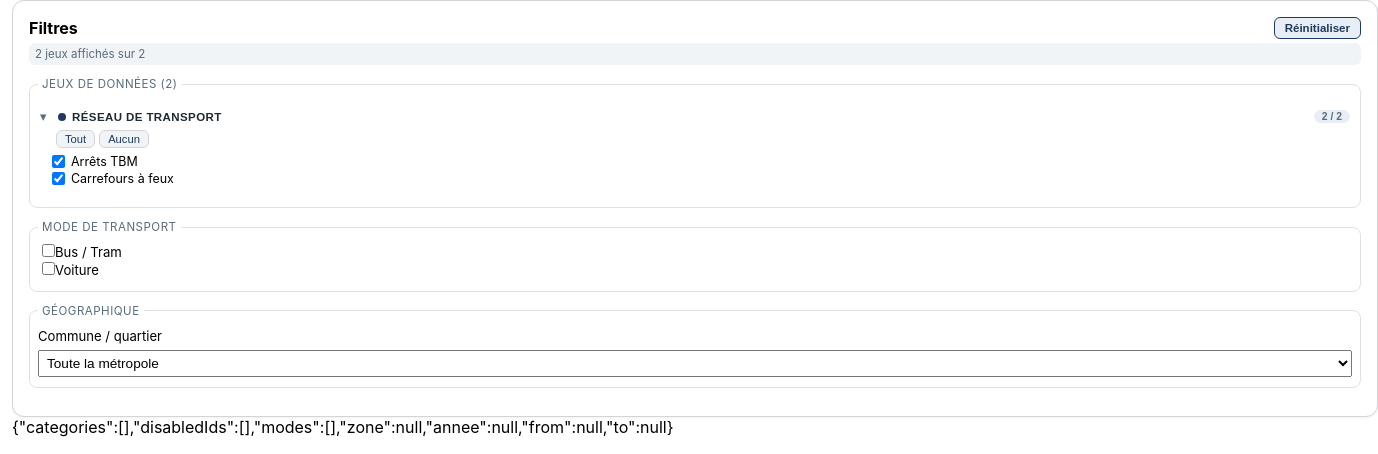
Test: FilterRail › toggles a mode checkbox into the state
Click the checkbox labelled "Voiture": (48, 269) [42,262,55,275]
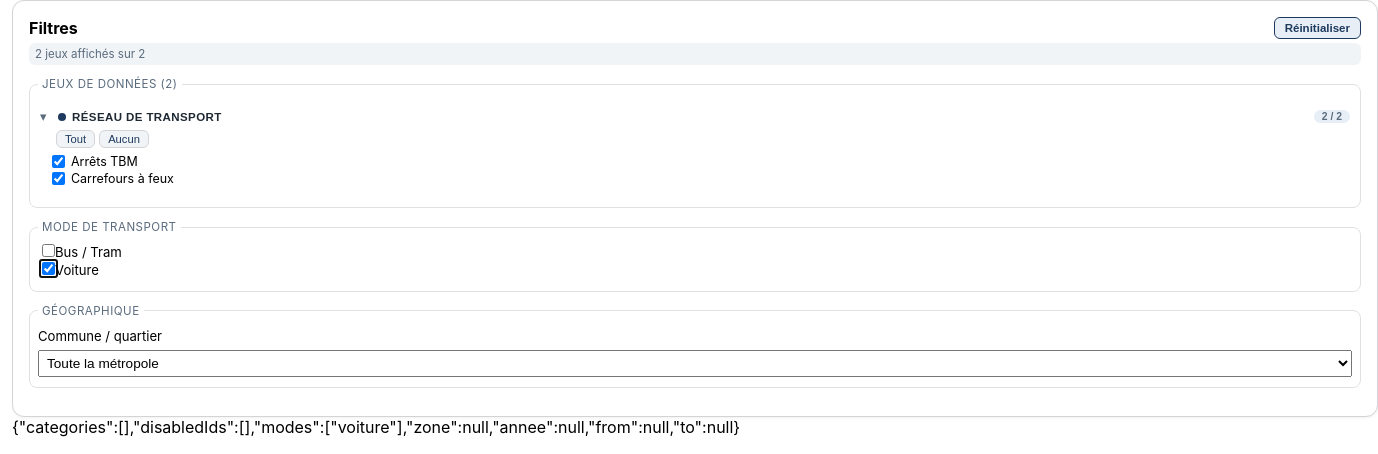
expect the text with test id "state" shows "\"modes\":[\"voiture\"]": met, box [12,417,740,437]
